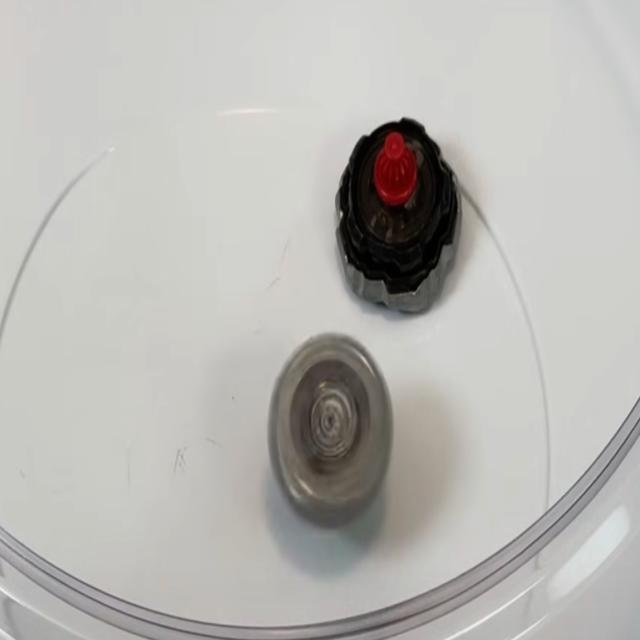Beyblade: (333, 117, 461, 316), (268, 334, 394, 527)
